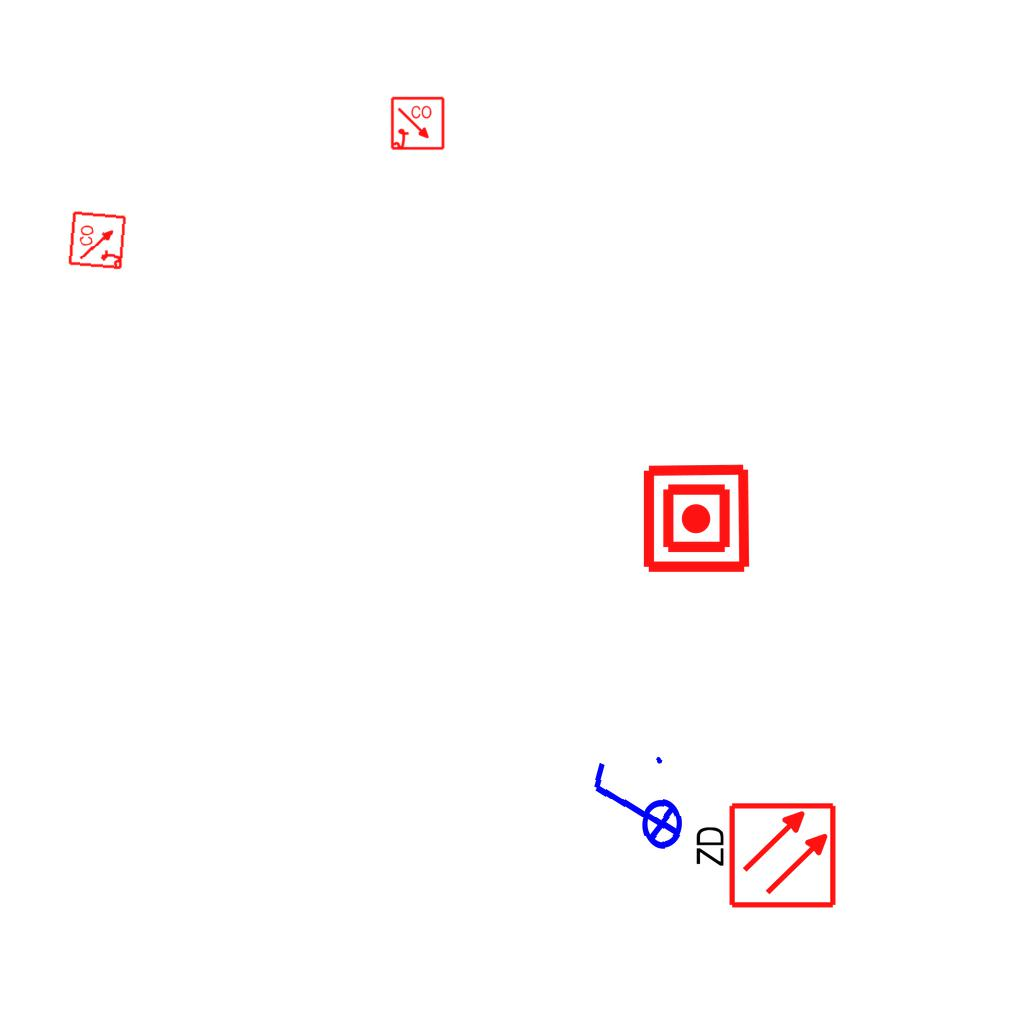Ausschalter_beleuchtet: (584, 749, 686, 867)
NAM-Nichtautomatischer_Melder: (640, 462, 753, 575)
ROA_Rauchmelder_optisch_mit_Signalgeber_(Sockelsirene): (67, 209, 129, 271), (390, 96, 446, 152)
ZD_Melder_in_Zwischendecke_mit_Revisionsoeffnung_mind_40_x_40_cm: (689, 800, 838, 914)
